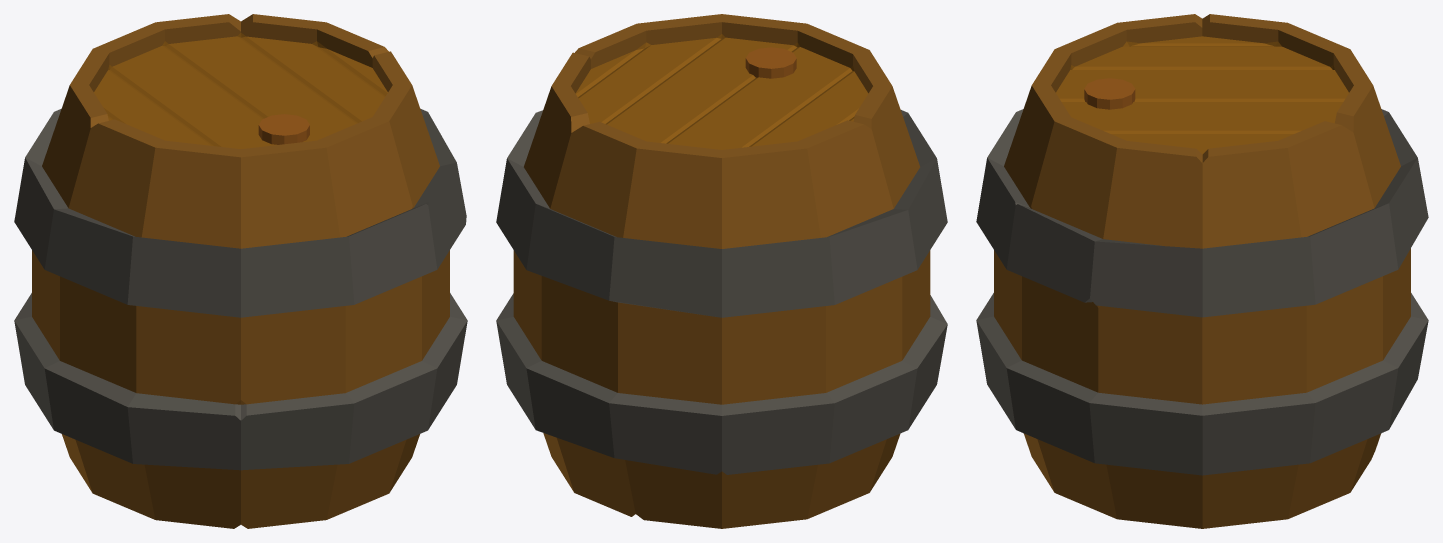
Rendered from Barrel.glb.
3 renders of one model, left to right at view 1: azimuth 30°, elevation 25°; view 2: azimuth 150°, elevation 25°; view 3: azimuth 270°, elevation 25°, orthographic.
Parts seen in each view (by area): view 1: Barrel.004; view 2: Barrel.004; view 3: Barrel.004.
Boxes of the visible parts, x1,y1,x2,y2 form: Barrel.004: (14, 14, 467, 528); Barrel.004: (496, 14, 947, 528); Barrel.004: (976, 14, 1428, 528).
Size of the model in its own units: 1.71 by 1.55 by 1.71.
